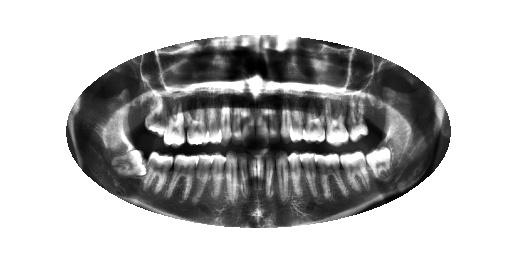Cavity: (255, 108, 271, 147), (242, 106, 256, 147)
Impacted Tooth: (112, 149, 146, 178)
